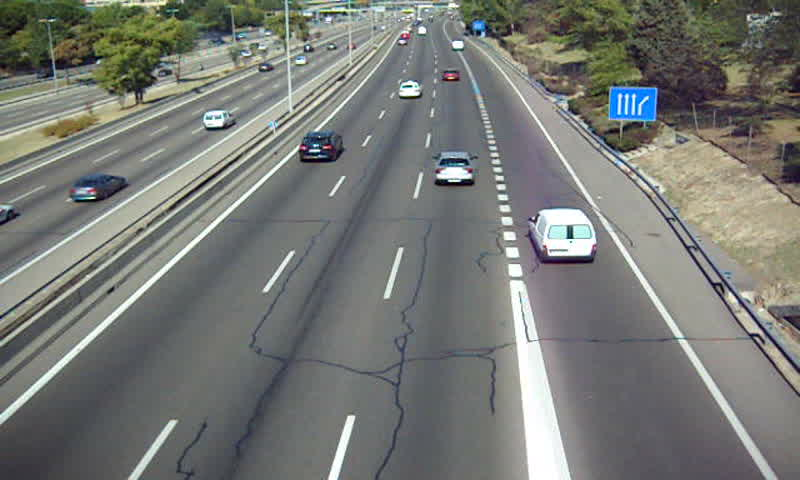car: (298, 132, 342, 164), (434, 152, 474, 184), (398, 80, 421, 99), (443, 69, 460, 83)
van: (528, 210, 599, 264)
